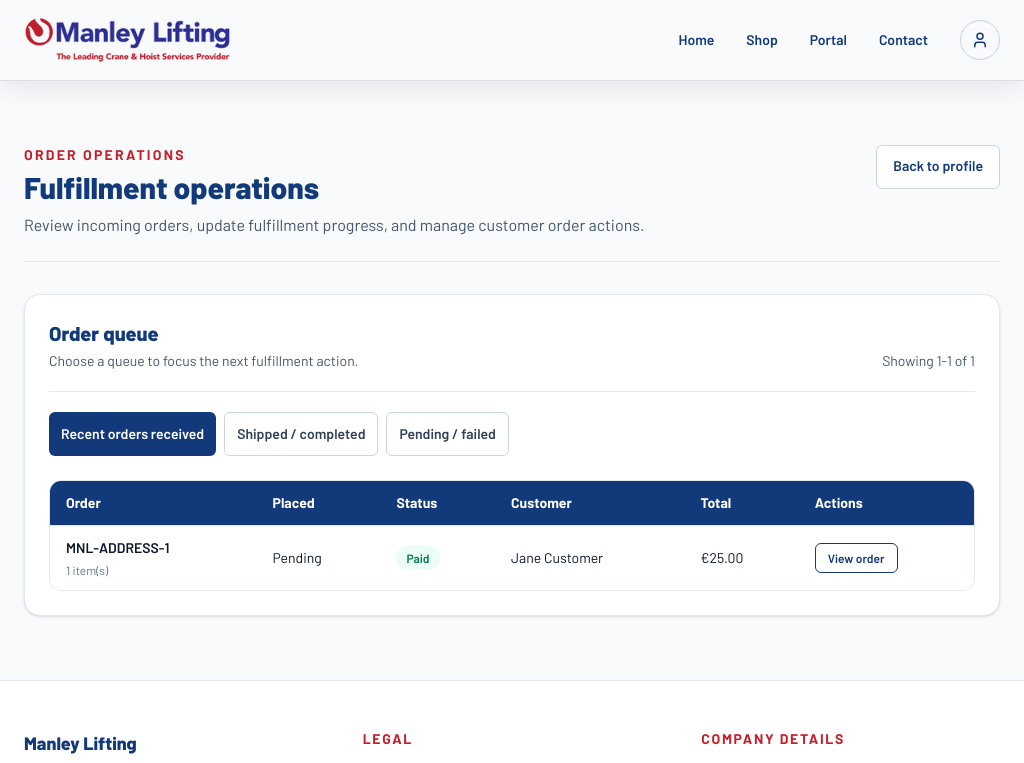
Test: FulfillmentOperationsPage › shows the shipping address in order details
The width and height of the screenshot is (1024, 763).
Check: the heading "Fulfillment operations" is shown, box [24,169,319,205]
Click the button with aria-label "View order MNL-ADDRESS-1": (856, 558) [815,543,898,573]
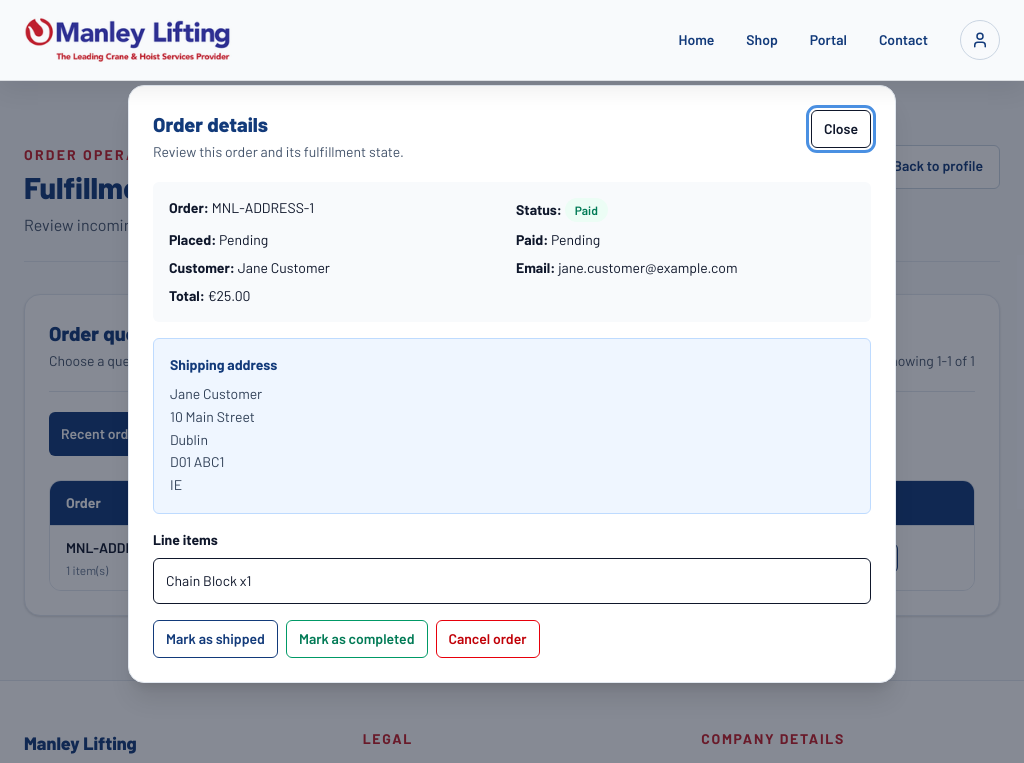
Check: the heading "Shipping address" is shown, box [170,356,277,373]
Check: the text "jane.customer@example.com" is shown, box [558,259,738,276]
